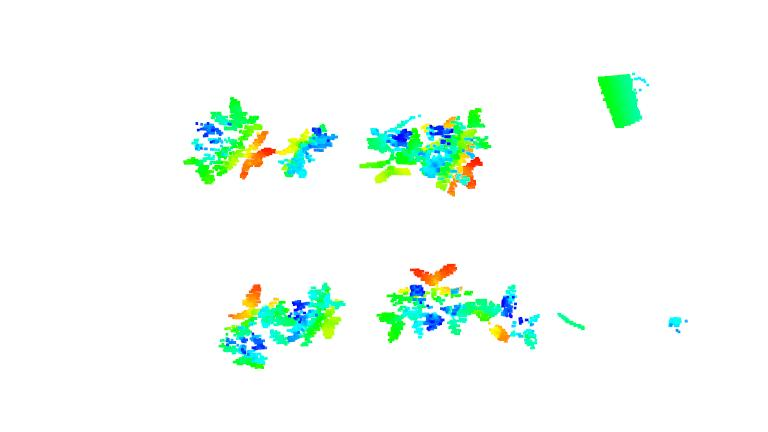chickpea: (180, 94, 275, 186), (375, 262, 474, 346), (420, 105, 491, 197), (217, 283, 290, 372), (466, 283, 544, 355), (285, 280, 347, 349), (271, 121, 340, 180), (357, 124, 424, 184)
